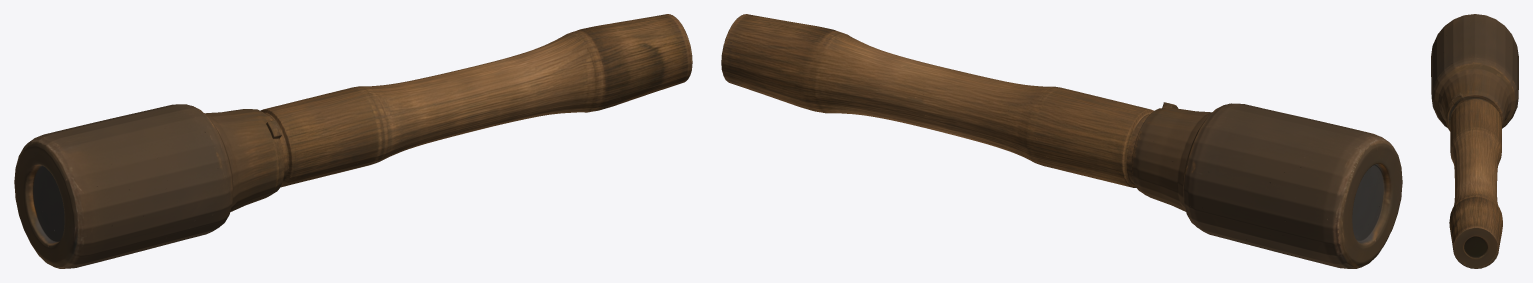
Rendered from 手榴弹.glb.
The picture shows the model from 3 angles, left to right: view 1: azimuth 30°, elevation 25°; view 2: azimuth 150°, elevation 25°; view 3: azimuth 270°, elevation 25°; orthographic projection. The views are drawn at different scales.
Visible parts, largest first — view 1: texture_pbr_v128; view 2: texture_pbr_v128; view 3: texture_pbr_v128.
Boxes of the visible parts, <box> form: texture_pbr_v128: <box>14,14,692,268</box>; texture_pbr_v128: <box>721,14,1402,268</box>; texture_pbr_v128: <box>1431,14,1518,268</box>.
Bounding box in the file's own units: 1.18 × 0.2258 × 0.2222.
1 material, 1 textured.
